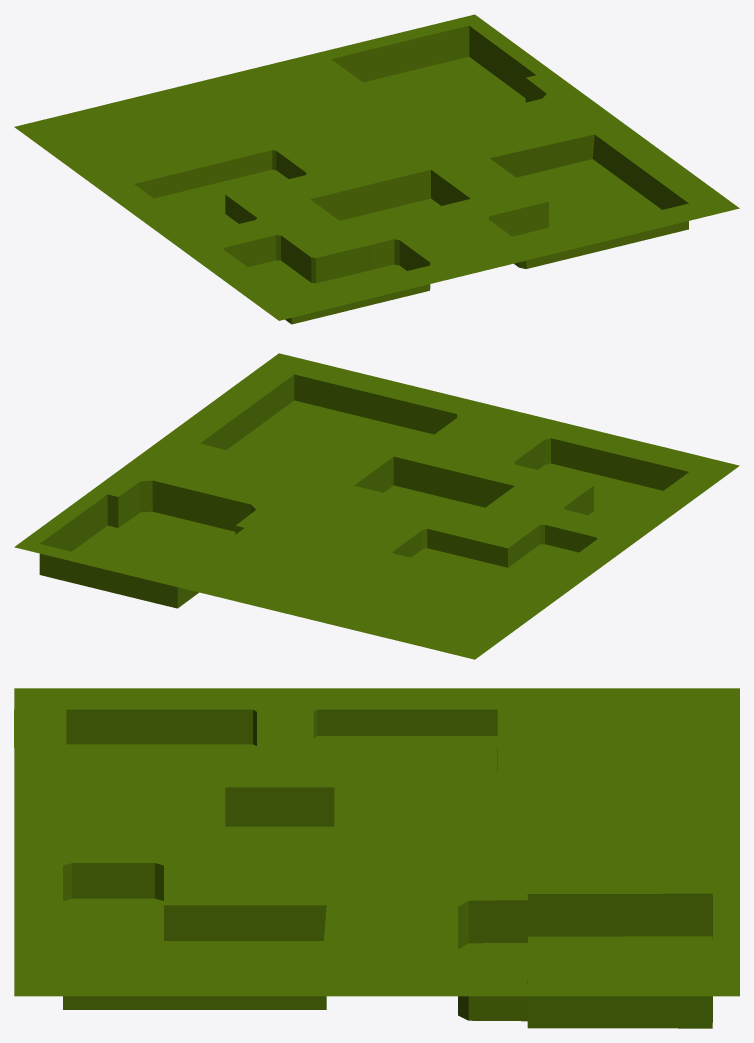
The model's file is Green_Inside.fbx.
3 views of the same model, one above another, from view 1: azimuth 30°, elevation 25°; view 2: azimuth 150°, elevation 25°; view 3: azimuth 270°, elevation 25° (orthographic). The views are drawn at different scales.
Visible parts, largest first — view 1: Main_map.001; view 2: Main_map.001; view 3: Main_map.001.
Part boxes in pixels (x1,y1,x2,y2): Main_map.001: (14,14,739,324); Main_map.001: (14,353,739,659); Main_map.001: (14,688,739,1028).
Size of the model in its own units: 9879 by 637 by 9840.
